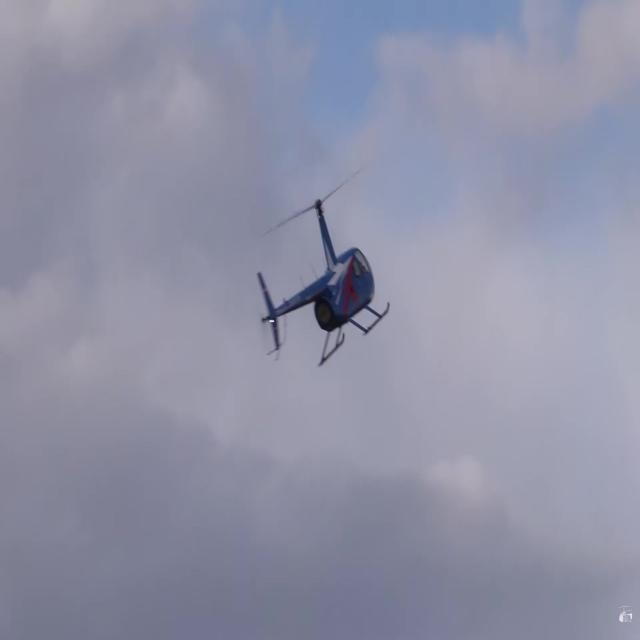CIV_HELO: (258, 196, 391, 368)
